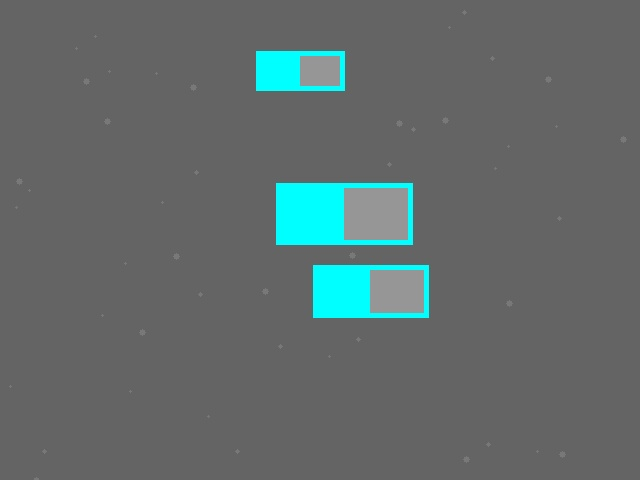truck: (276, 183, 412, 244), (313, 265, 428, 317), (256, 51, 344, 90)
